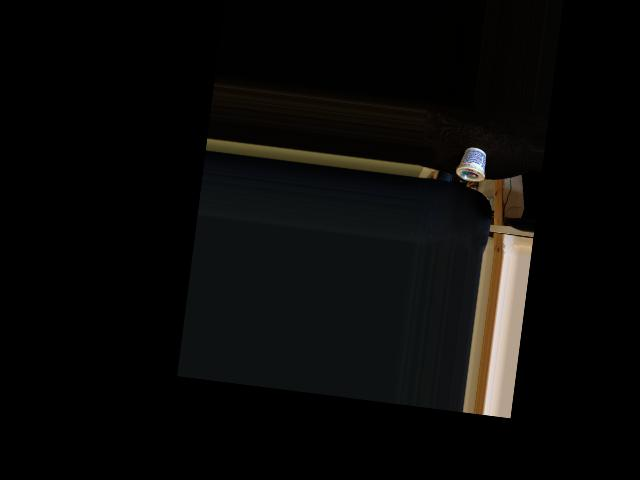cotage: (455, 145, 485, 185)
